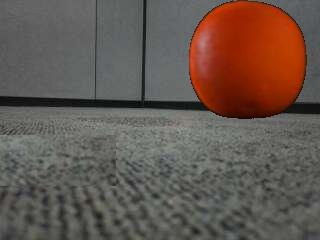Orange: (192, 1, 310, 121)
